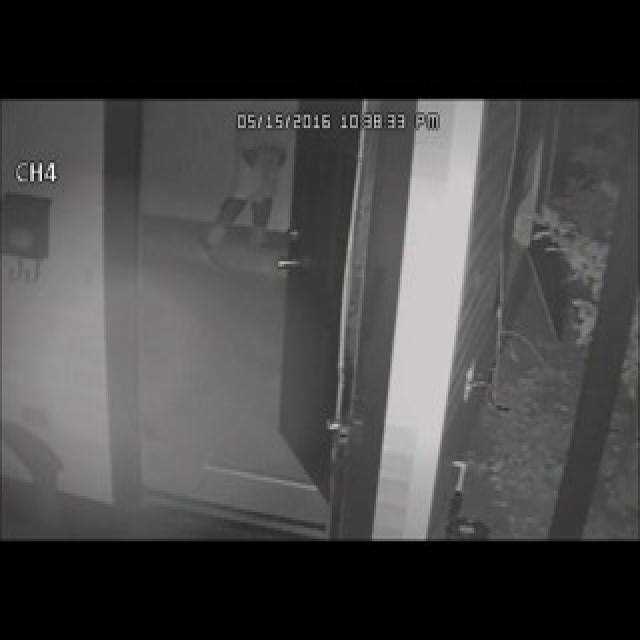thief: (207, 98, 280, 260)
